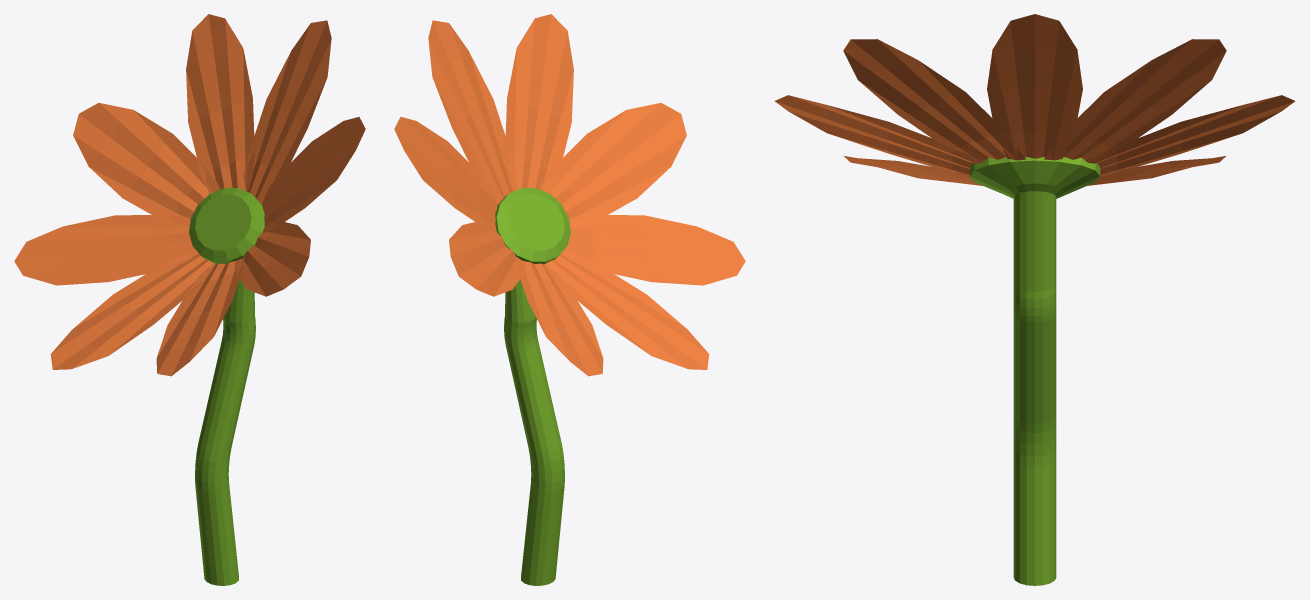
Rendered from flower_1.fbx.
3 renders of one model, left to right at view 1: azimuth 30°, elevation 25°; view 2: azimuth 150°, elevation 25°; view 3: azimuth 270°, elevation 25°, orthographic. The views are drawn at different scales.
Visible parts, largest first — view 1: Circle, flower_1; view 2: Circle, flower_1; view 3: Circle, flower_1.
Part boxes in pixels (x1=…): Circle: x1=14, y1=14, x2=365, y2=376; flower_1: x1=189, y1=188, x2=264, y2=585; Circle: x1=394, y1=14, x2=745, y2=376; flower_1: x1=495, y1=188, x2=570, y2=585; Circle: x1=774, y1=14, x2=1295, y2=185; flower_1: x1=969, y1=157, x2=1100, y2=585.
Size of the model in its own units: 569 by 1054 by 798.
